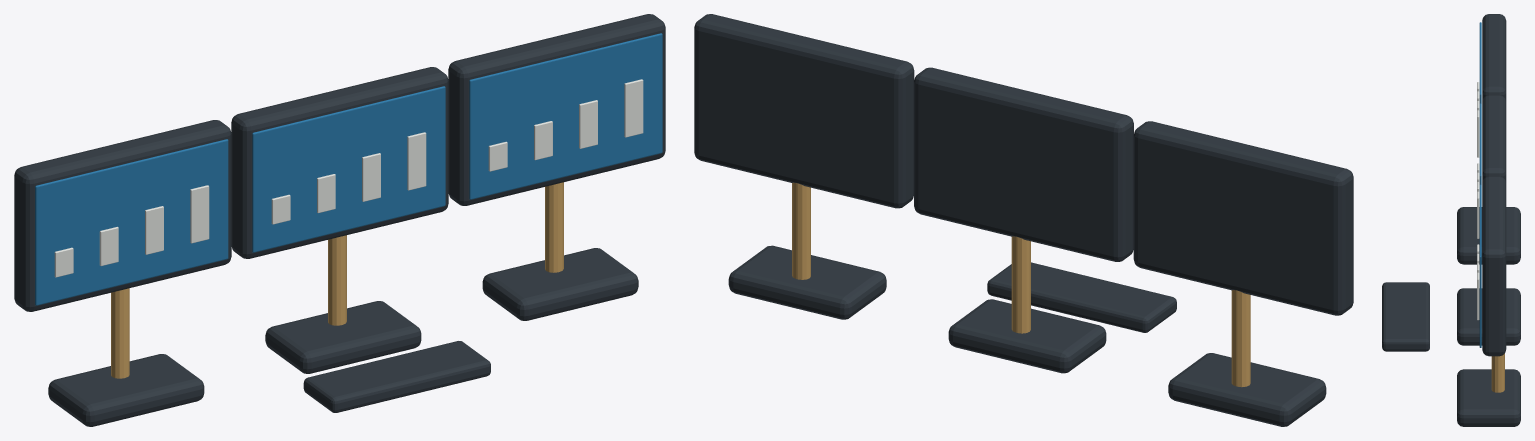
The model's file is analysis-console.glb.
3 renders of one model, left to right at view 1: azimuth 30°, elevation 25°; view 2: azimuth 150°, elevation 25°; view 3: azimuth 270°, elevation 25°, orthographic. The views are drawn at different scales.
Visible parts, largest first — view 1: Display.001, Display, Display.002, Monitor frame.002, Monitor frame.001, Monitor frame, Keyboard, Monitor base, Monitor base.002, Monitor base.001, Monitor stand.002, Monitor stand.001 (+10 smaller); view 2: Monitor frame, Monitor frame.002, Monitor frame.001, Monitor base, Monitor base.002, Monitor base.001, Keyboard, Monitor stand.001, Monitor stand, Monitor stand.002; view 3: Monitor frame.002, Monitor base.002, Keyboard, Monitor base.001, Monitor base, Monitor frame, Monitor frame.001, Monitor stand.002, Display.002, Display, Display.001.
Part boxes in pixels (x1=…): Display.001: x1=252, y1=86, x2=445, y2=252; Display: x1=35, y1=139, x2=228, y2=305; Display.002: x1=469, y1=33, x2=662, y2=199; Monitor frame.002: x1=448, y1=14, x2=665, y2=205; Monitor frame.001: x1=231, y1=67, x2=448, y2=258; Monitor frame: x1=14, y1=120, x2=231, y2=311; Keyboard: x1=303, y1=341, x2=490, y2=412; Monitor base: x1=48, y1=354, x2=204, y2=426; Monitor base.002: x1=482, y1=248, x2=638, y2=320; Monitor base.001: x1=265, y1=301, x2=421, y2=373; Monitor stand.002: x1=545, y1=182, x2=563, y2=272; Monitor stand.001: x1=328, y1=235, x2=346, y2=325; Monitor frame: x1=1133, y1=121, x2=1353, y2=315; Monitor frame.002: x1=694, y1=14, x2=914, y2=208; Monitor frame.001: x1=914, y1=67, x2=1133, y2=261; Monitor base: x1=1168, y1=353, x2=1326, y2=426; Monitor base.002: x1=728, y1=245, x2=886, y2=319; Monitor base.001: x1=948, y1=299, x2=1106, y2=373; Keyboard: x1=987, y1=262, x2=1176, y2=332; Monitor stand.001: x1=1011, y1=236, x2=1030, y2=333; Monitor stand: x1=1231, y1=290, x2=1250, y2=387; Monitor stand.002: x1=792, y1=182, x2=810, y2=279; Monitor frame.002: x1=1482, y1=176, x2=1506, y2=356; Monitor base.002: x1=1457, y1=369, x2=1520, y2=426; Keyboard: x1=1382, y1=282, x2=1429, y2=351; Monitor base.001: x1=1457, y1=288, x2=1520, y2=345; Monitor base: x1=1457, y1=207, x2=1520, y2=264; Monitor frame: x1=1482, y1=14, x2=1506, y2=101; Monitor frame.001: x1=1482, y1=95, x2=1506, y2=182; Monitor stand.002: x1=1491, y1=353, x2=1504, y2=392; Display.002: x1=1479, y1=184, x2=1481, y2=347; Display: x1=1479, y1=22, x2=1481, y2=103; Display.001: x1=1479, y1=103, x2=1481, y2=184.
Size of the model in its own units: 2.13 by 0.8 by 0.52.
